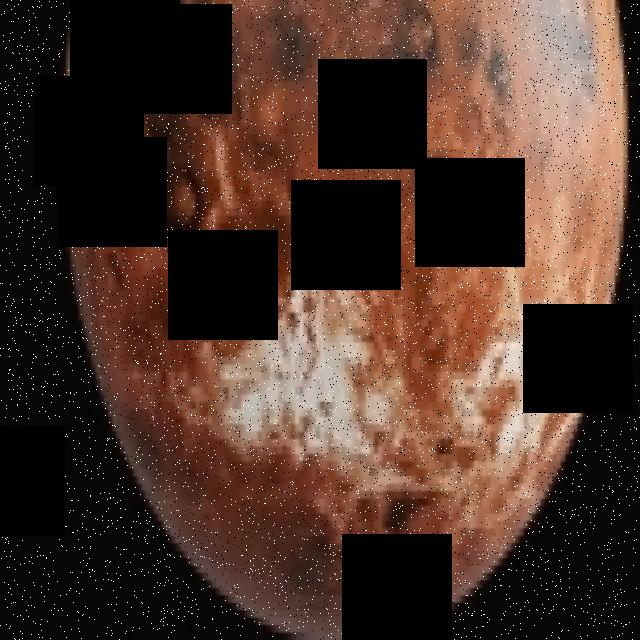Venus: (62, 0, 628, 640)
